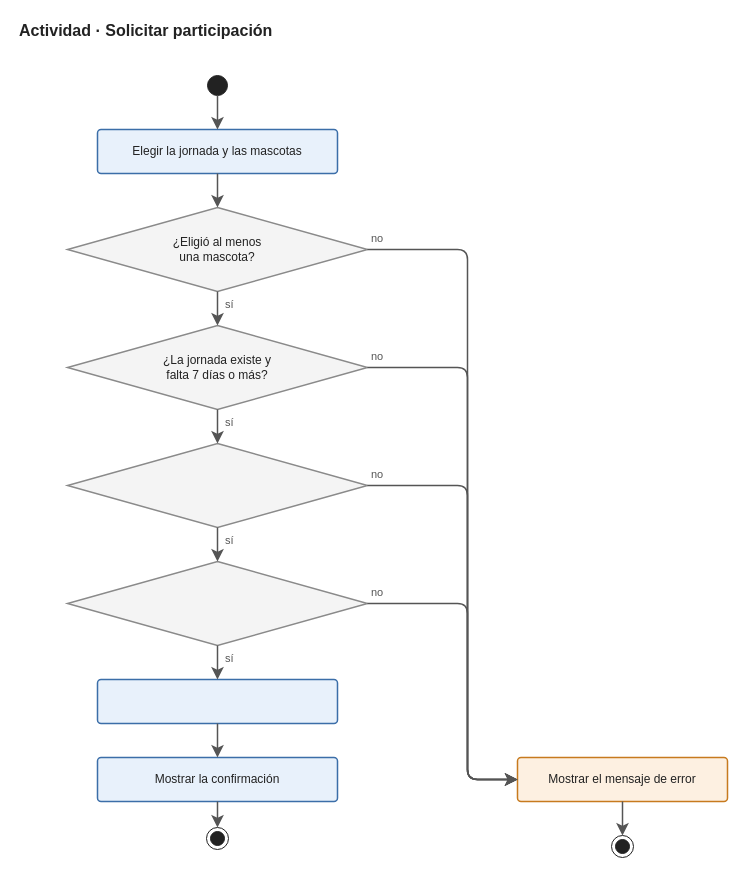
Some shapes in this 745 by 875 pixel diagram are drawn without their labels. The centre of each missing label's shape, as x and y in pixels:
"Guardar una solicitud por mascota (estado PENDIENTE)" goes at (217,701).
"¿Ninguna mascota tiene ya solicitud para esa jornada?" goes at (217,603).
"¿Todas las mascotas son del ciudadano?" goes at (217,485).
